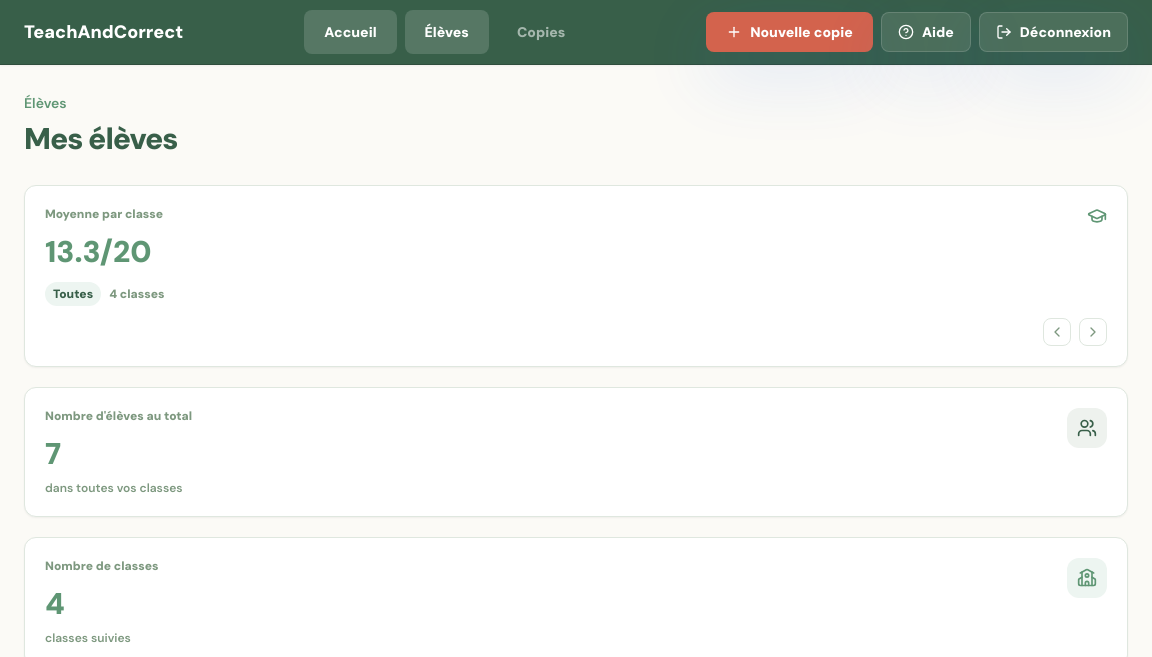
Test case: Dashboard navigation › navigates from students to copies and import pages
expect the 1st heading "Mes élèves" is shown: met, box left=24, top=119, right=178, bottom=158
What coordinates should you click on to do the following:
click the link "Copies"
I would click on:
 (541, 32)
Its box is left=517, top=23, right=565, bottom=41.
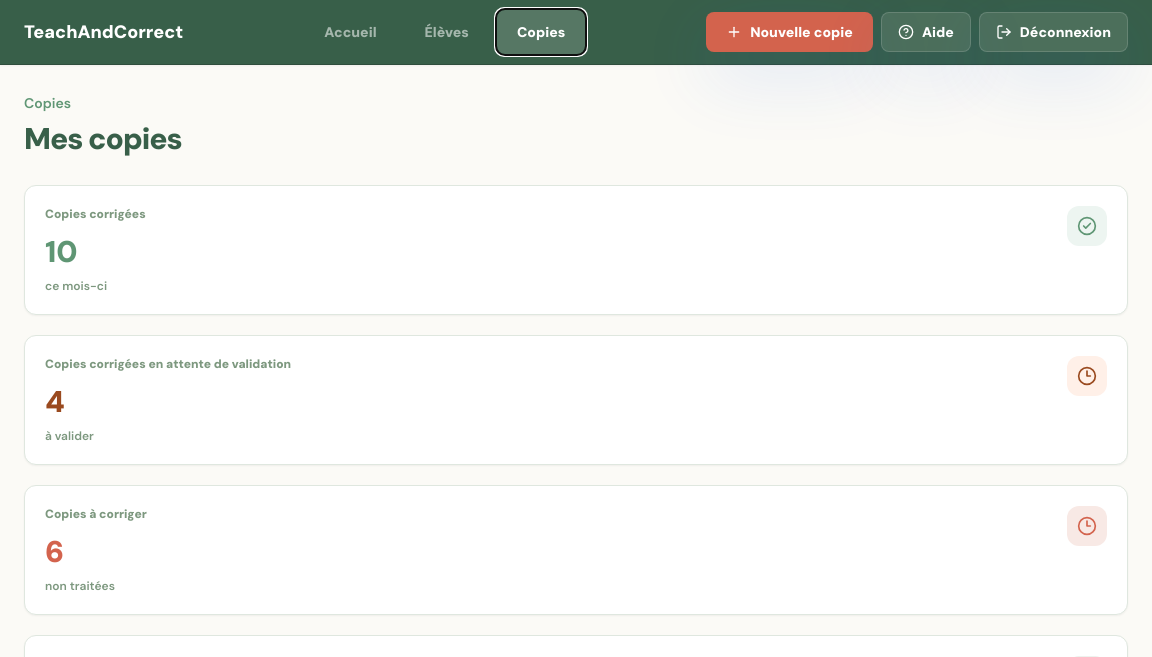
expect the heading "Mes copies" is shown: met, box left=24, top=119, right=182, bottom=158
What coordinates should you click on to do the following:
click the button "Nouvelle copie"
I would click on:
 (790, 32)
Its box is left=706, top=12, right=873, bottom=52.
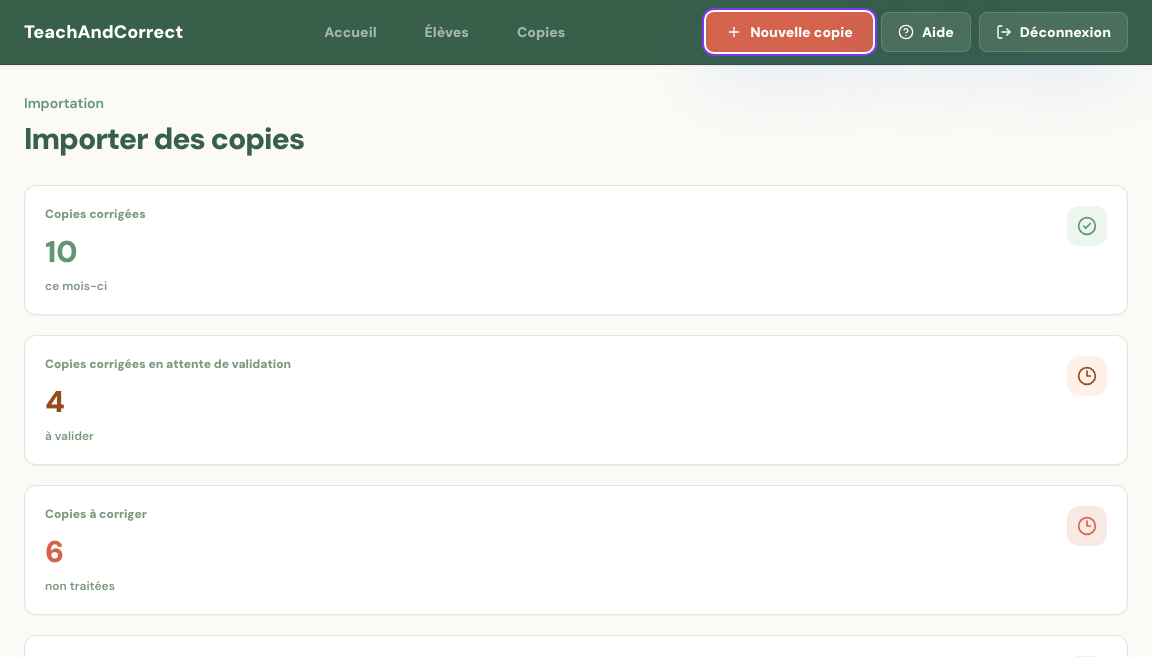
expect the heading "Importer des copies" is shown: met, box left=24, top=119, right=304, bottom=158
